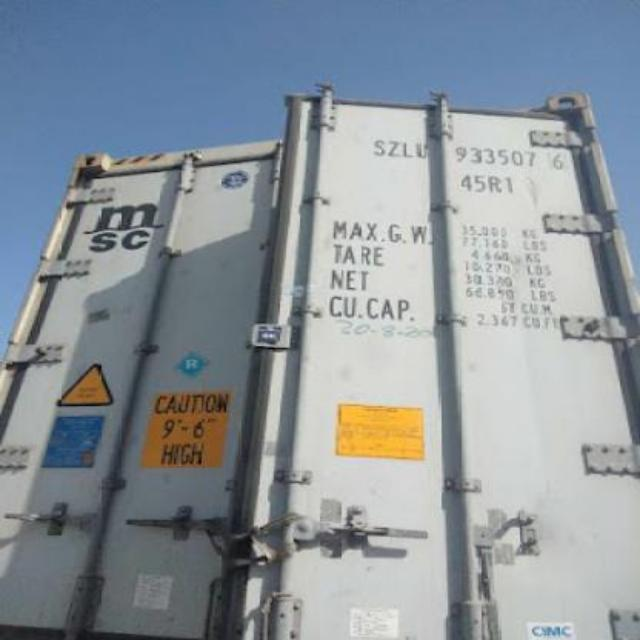0: (508, 146, 524, 172)
3: (482, 142, 498, 168), (470, 143, 482, 169)
5: (494, 143, 512, 173)
6: (548, 148, 568, 172)
7: (520, 146, 536, 168)
9: (454, 143, 470, 167)
L: (400, 138, 416, 164)
S: (372, 134, 386, 160)
U: (414, 134, 430, 162)
Z: (386, 136, 399, 160)
